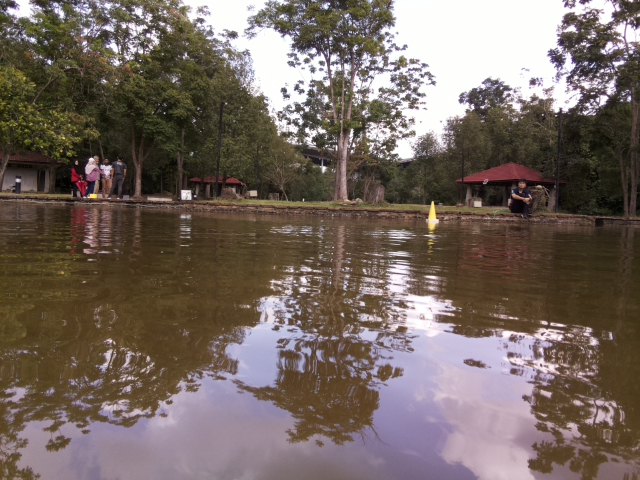checkpoint: (424, 200, 441, 224)
